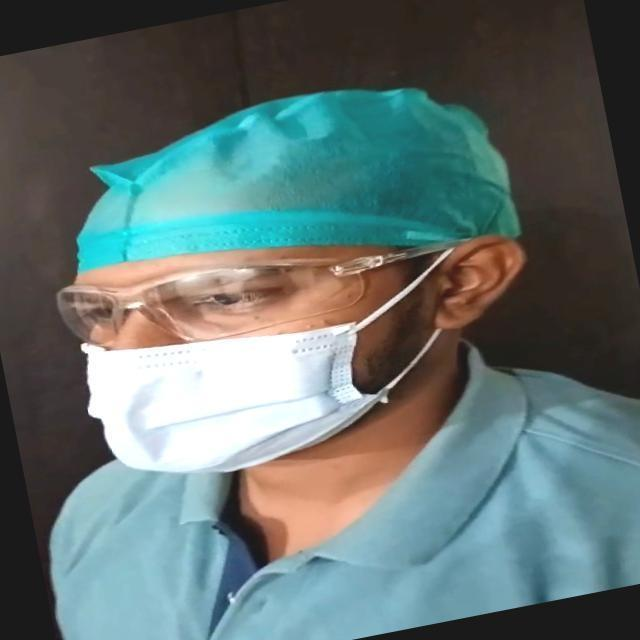gloves: (42, 90, 550, 244)
mask: (78, 290, 350, 474)
